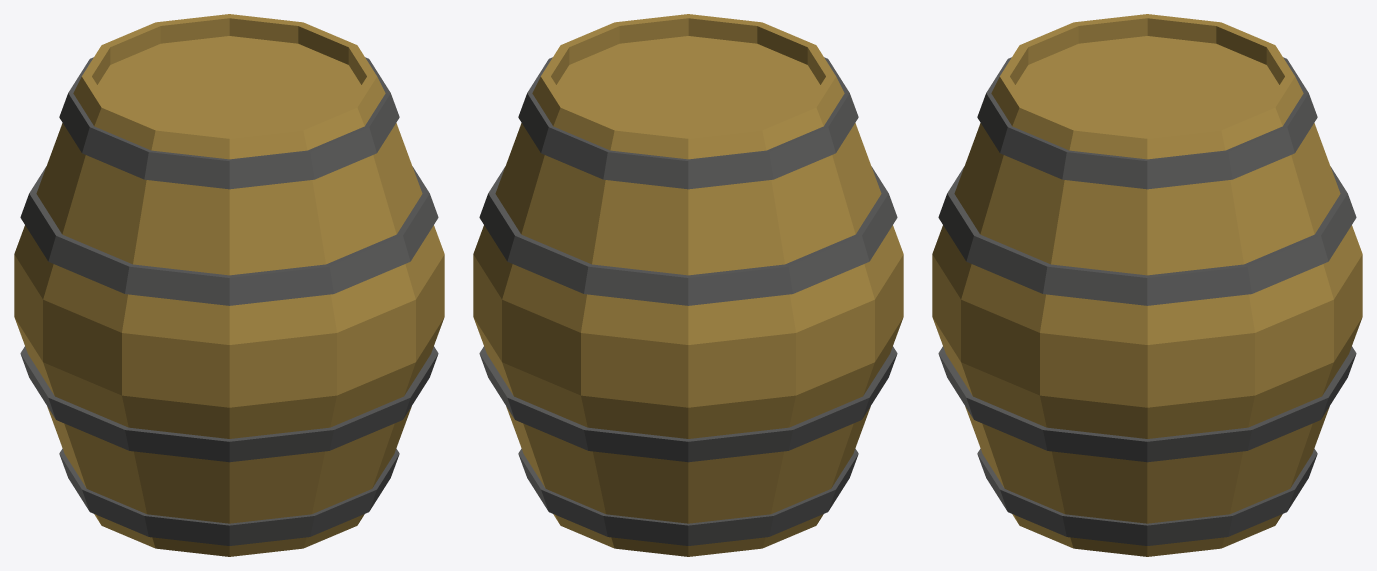
Rendered from SimpleBarrel.glb.
3 views of the same model, side by side, from view 1: azimuth 30°, elevation 25°; view 2: azimuth 150°, elevation 25°; view 3: azimuth 270°, elevation 25° (orthographic).
Visible parts, largest first — view 1: Simple Barrel; view 2: Simple Barrel; view 3: Simple Barrel.
Boxes of the visible parts, x1,y1,x2,y2 form: Simple Barrel: (14, 14, 444, 556); Simple Barrel: (473, 14, 903, 556); Simple Barrel: (932, 14, 1362, 556).
Bounding box in the file's own units: 0.9294 × 0.9962 × 0.9294.
1 material, 1 textured.
